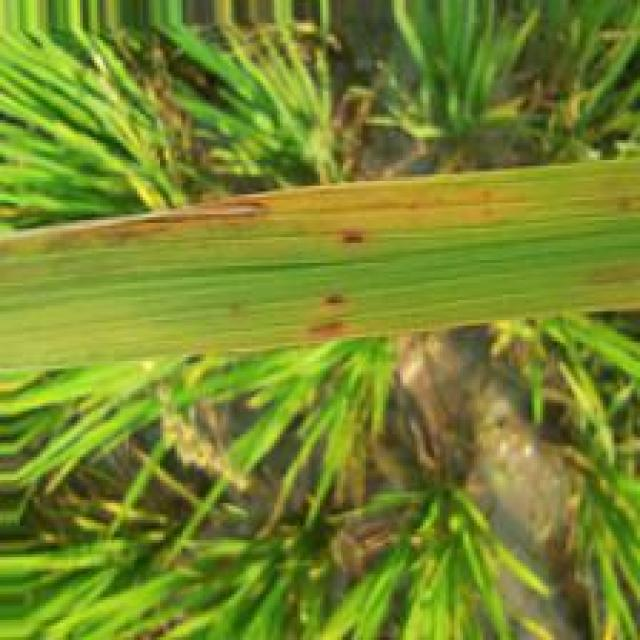Brown_Spot: (49, 199, 282, 248), (300, 318, 351, 336), (340, 228, 370, 248), (321, 292, 350, 308)
